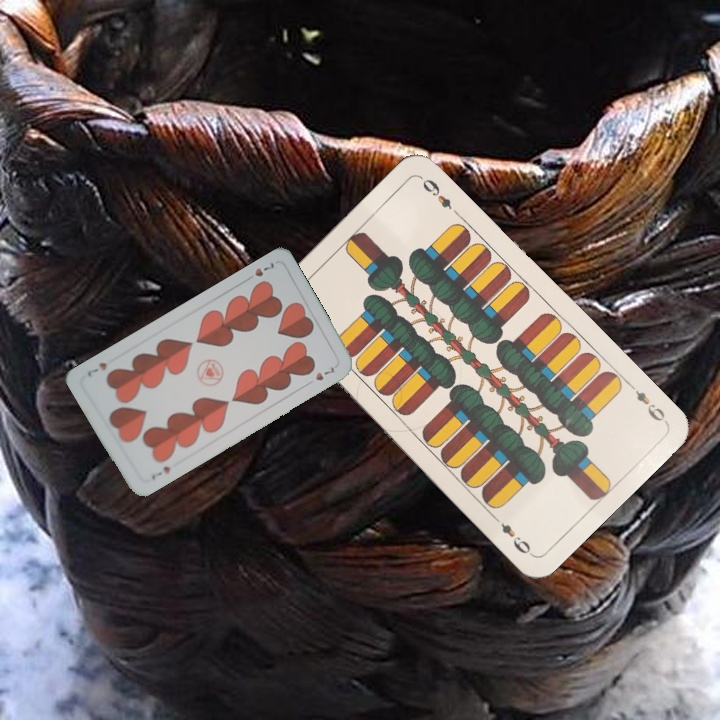E9: (624, 378, 669, 425)
H7: (242, 258, 277, 284), (147, 462, 173, 483)
